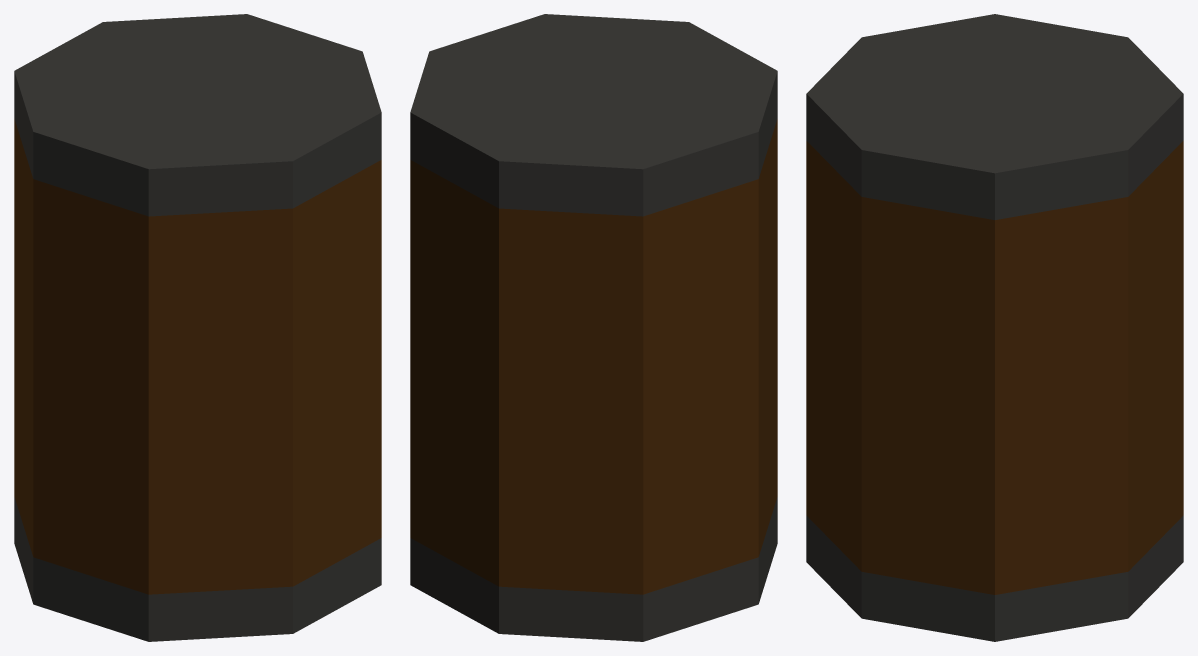
Rendered from SM_Single_Can_Brown.fbx.
The picture shows the model from 3 angles, left to right: view 1: azimuth 30°, elevation 25°; view 2: azimuth 150°, elevation 25°; view 3: azimuth 270°, elevation 25°; orthographic projection.
Parts seen in each view (by area): view 1: SM_Can_Var2; view 2: SM_Can_Var2; view 3: SM_Can_Var2.
Boxes of the visible parts, <box> form: SM_Can_Var2: <box>14,14,381,641</box>; SM_Can_Var2: <box>410,14,777,641</box>; SM_Can_Var2: <box>806,14,1183,641</box>.
Size of the model in its own units: 0.0934 by 0.1281 by 0.0934.
